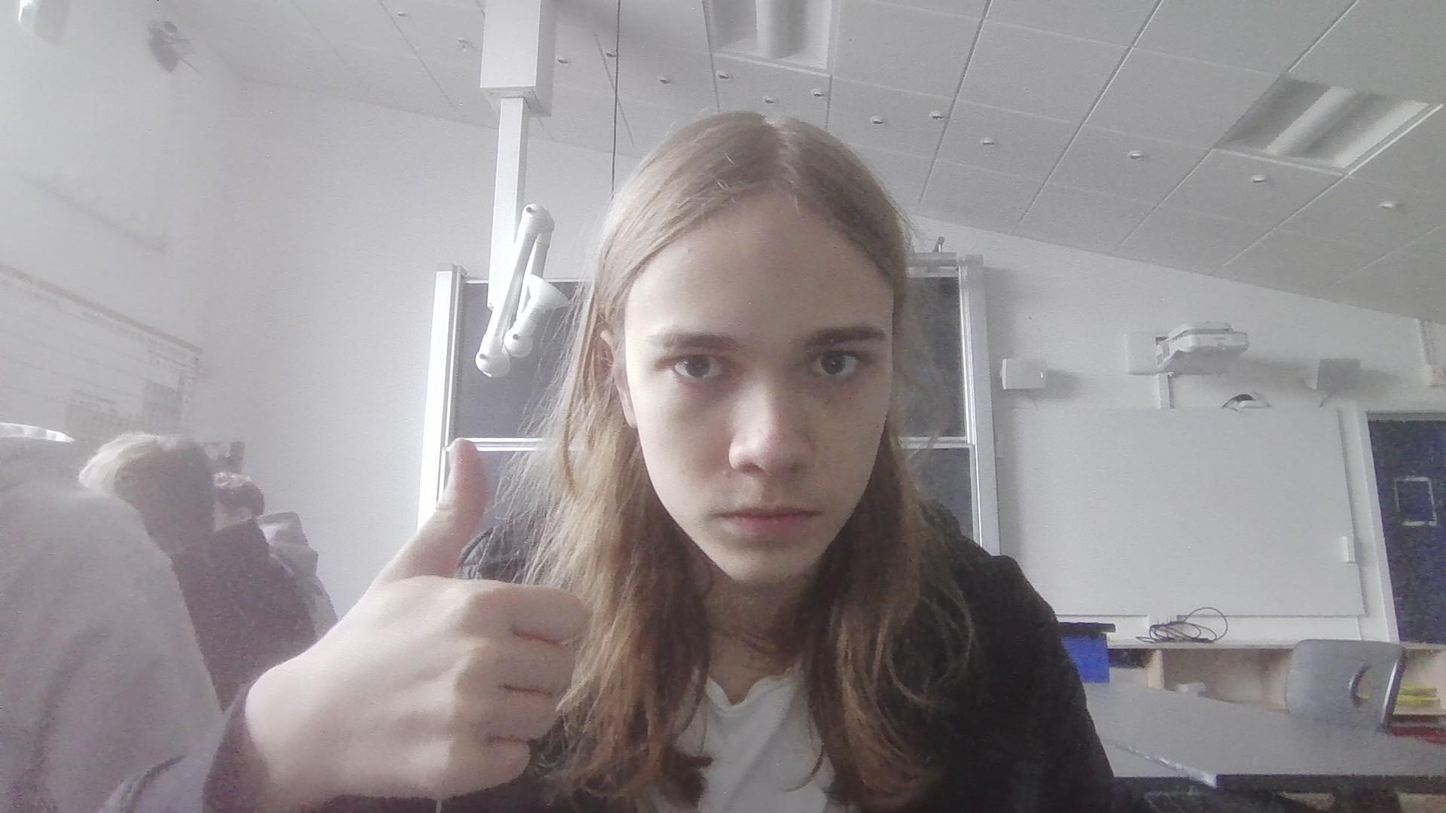thumbs up: (287, 430, 580, 797)
